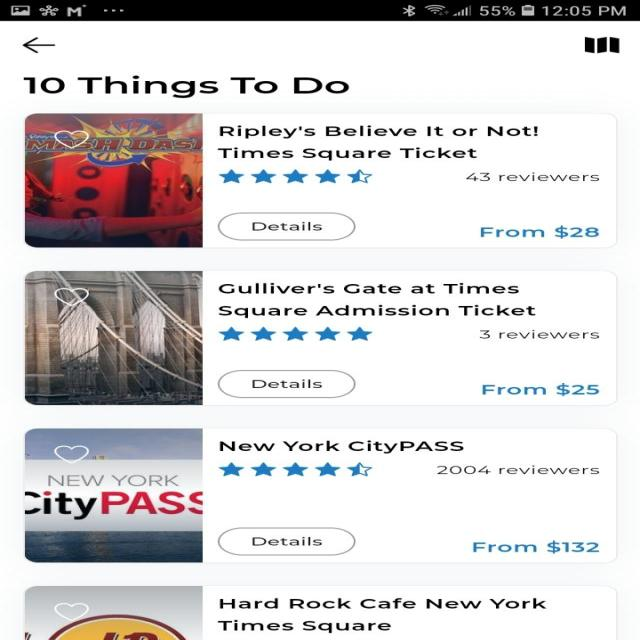Icon: (218, 326, 372, 341), (218, 169, 372, 184), (218, 462, 372, 476), (53, 287, 89, 306), (54, 602, 88, 620), (54, 445, 88, 463), (54, 130, 88, 148), (584, 36, 620, 53), (22, 37, 56, 53)
Image: (25, 428, 203, 562), (25, 270, 203, 404), (25, 113, 203, 247), (25, 586, 202, 640)
Text: (217, 125, 538, 161), (217, 598, 546, 633), (218, 282, 536, 318), (23, 75, 349, 98), (218, 439, 463, 454), (472, 540, 598, 553), (482, 382, 598, 396), (479, 225, 598, 238), (436, 465, 600, 474), (465, 172, 599, 181), (478, 330, 598, 339)
TextButton: (217, 527, 356, 556), (217, 212, 356, 241), (217, 370, 356, 398)
